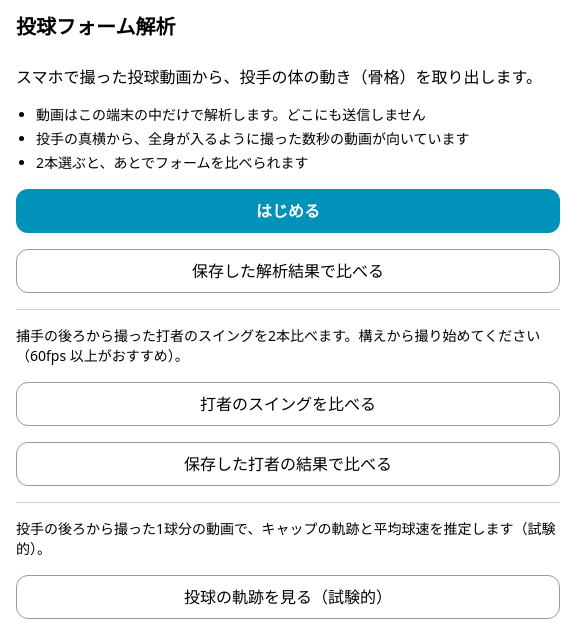
App › はじめに画面から、保存した解析結果を読み込んで比べる入口がある
This screenshot has width=577, height=636.
Step 1. Click the button "保存した解析結果で比べる" → (288,271), box [16,249,560,293]
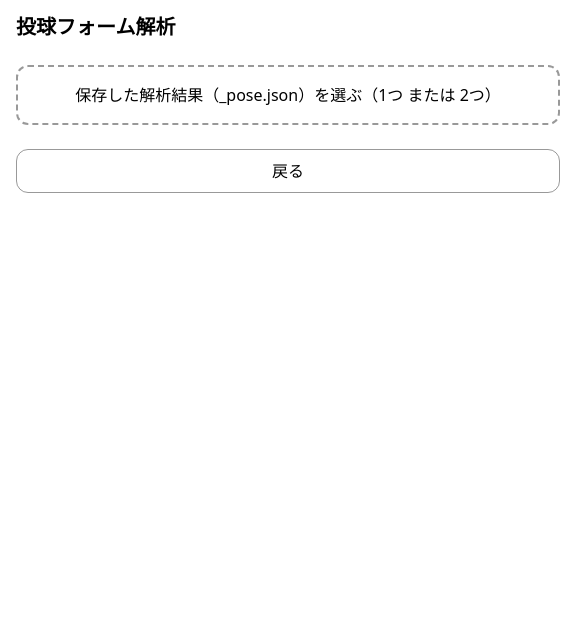
Expected: the file field "保存した解析結果（_pose.json）を選ぶ（1つ または 2つ）" is shown, [16,65,560,125]
